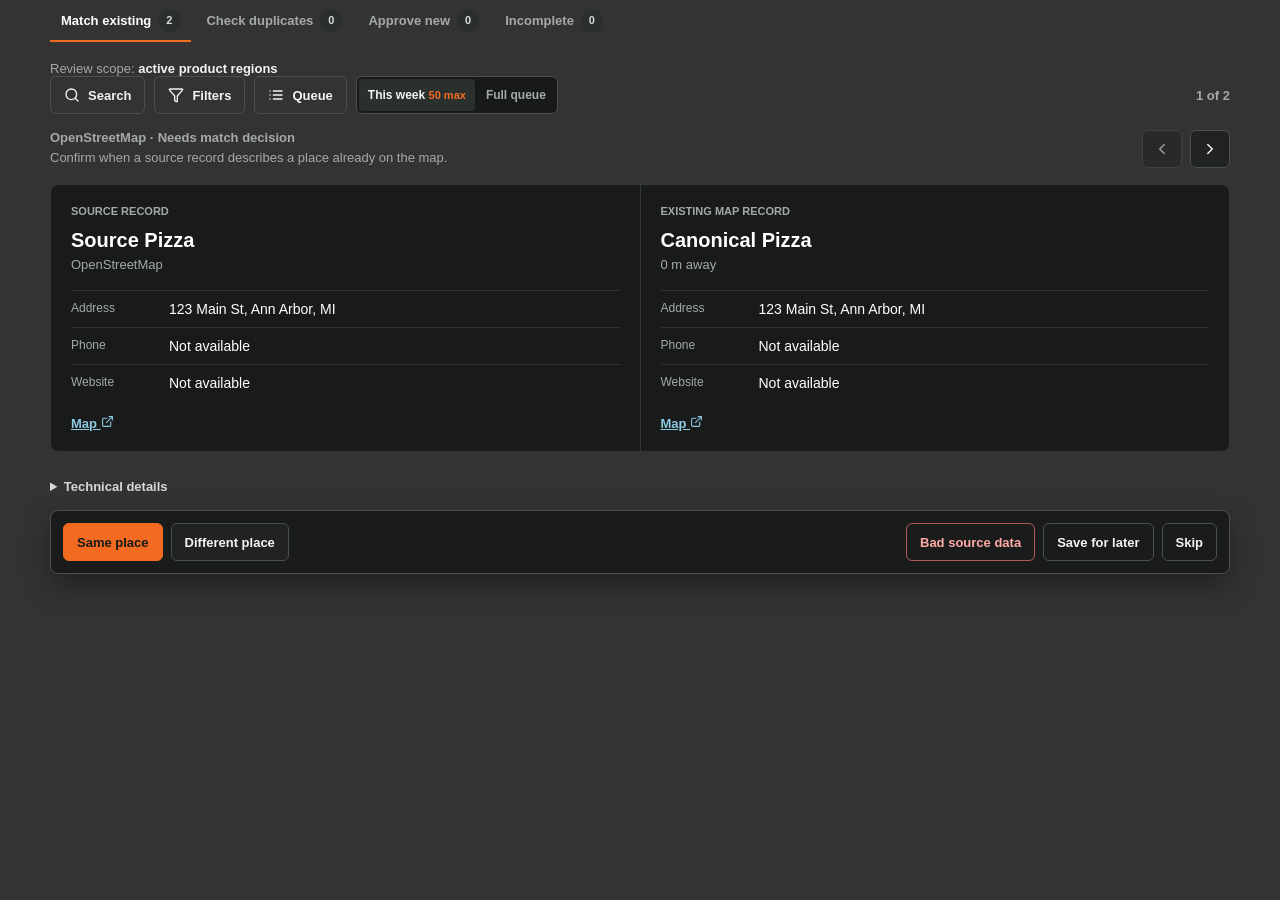
Test: AdminDataReviewPanel › lets keyboard users cancel the link confirmation with Escape
Check: the heading "Source Pizza" is shown, box [71, 229, 194, 251]
Step 1. Click the button "Same place" → click(113, 542), box [63, 523, 162, 561]
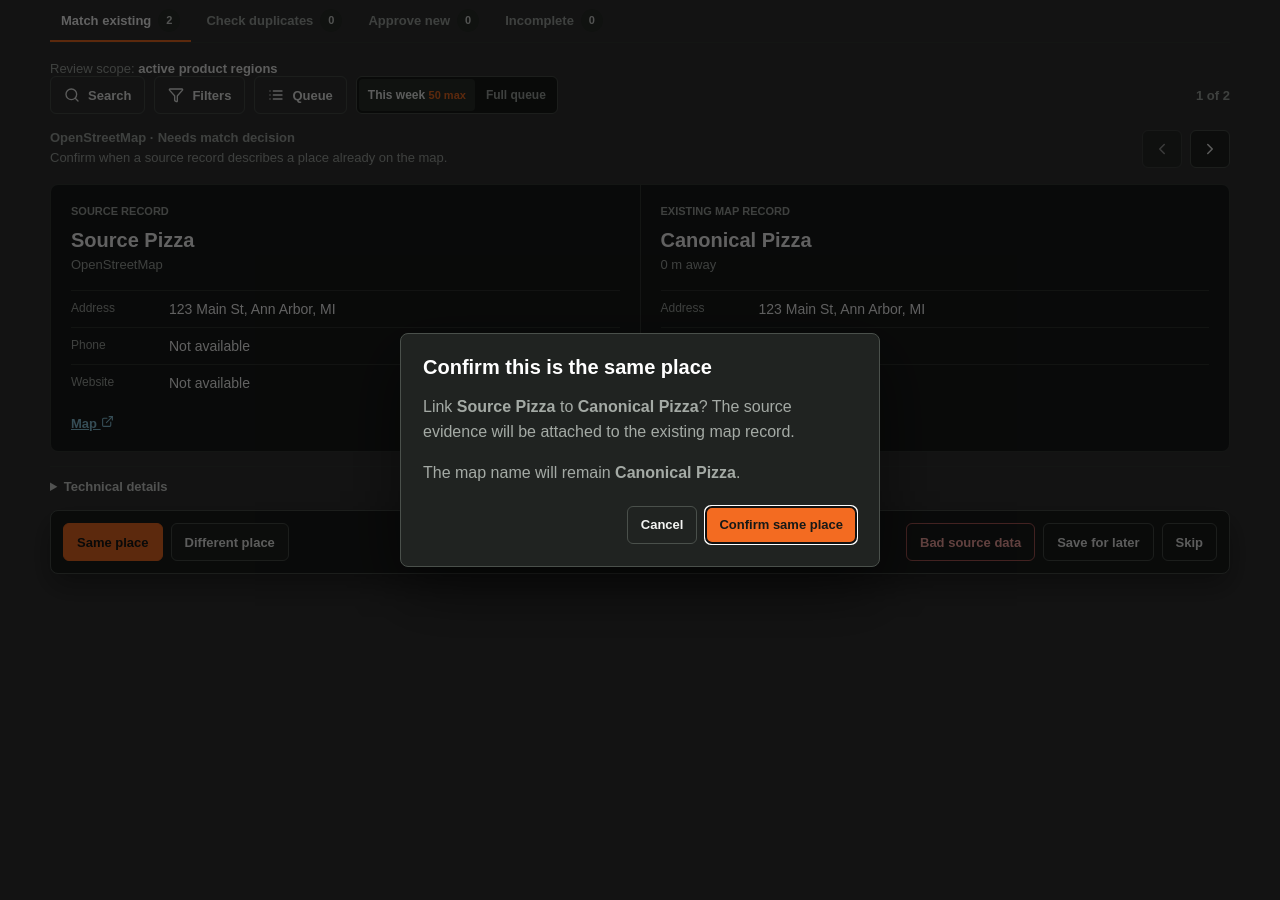
Check: the dialog "Confirm this is the same place" is shown, box [400, 333, 880, 567]
Step 2. Press Escape
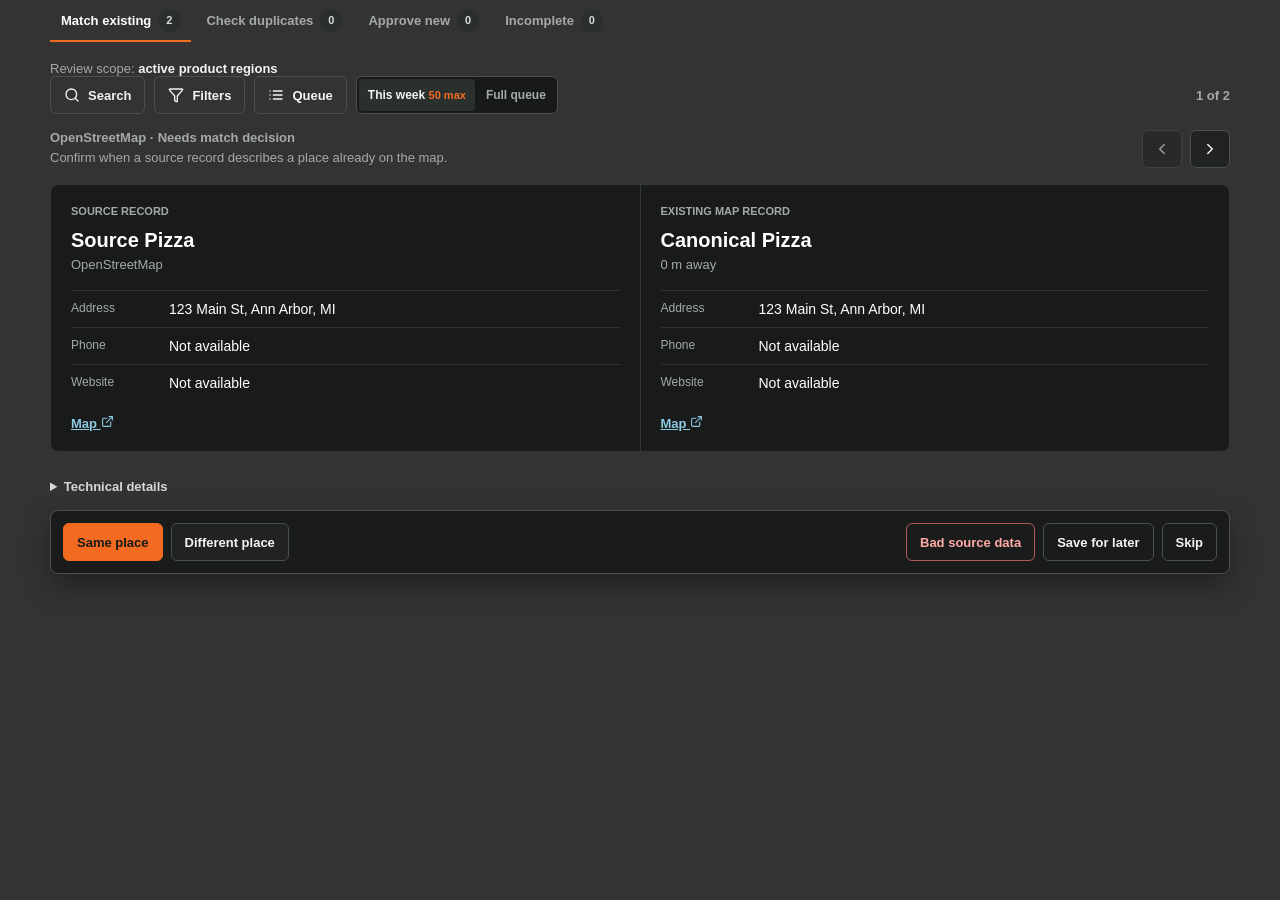
Check: the heading "Confirm this is the same place" is gone
